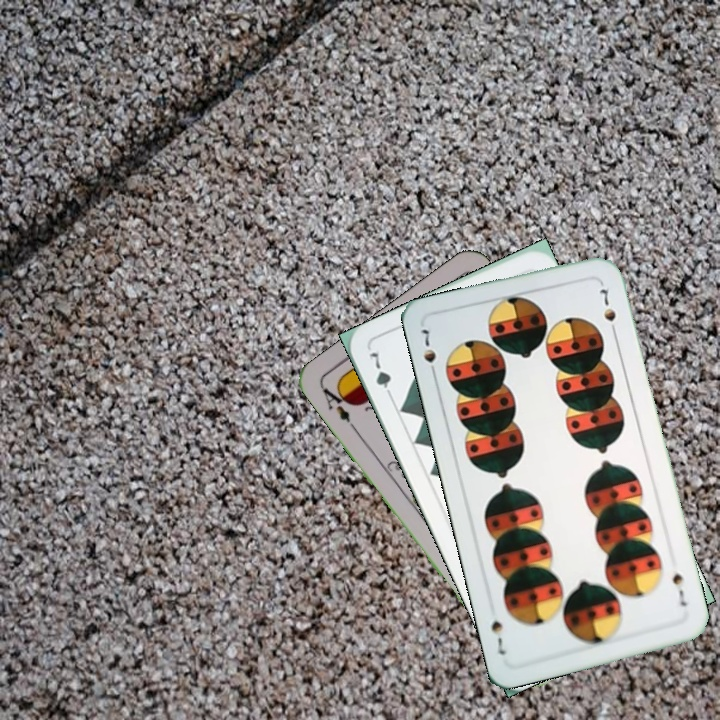EA: (317, 380, 353, 425)
G7: (365, 348, 396, 403)
S7: (417, 324, 439, 381), (668, 568, 690, 609)
